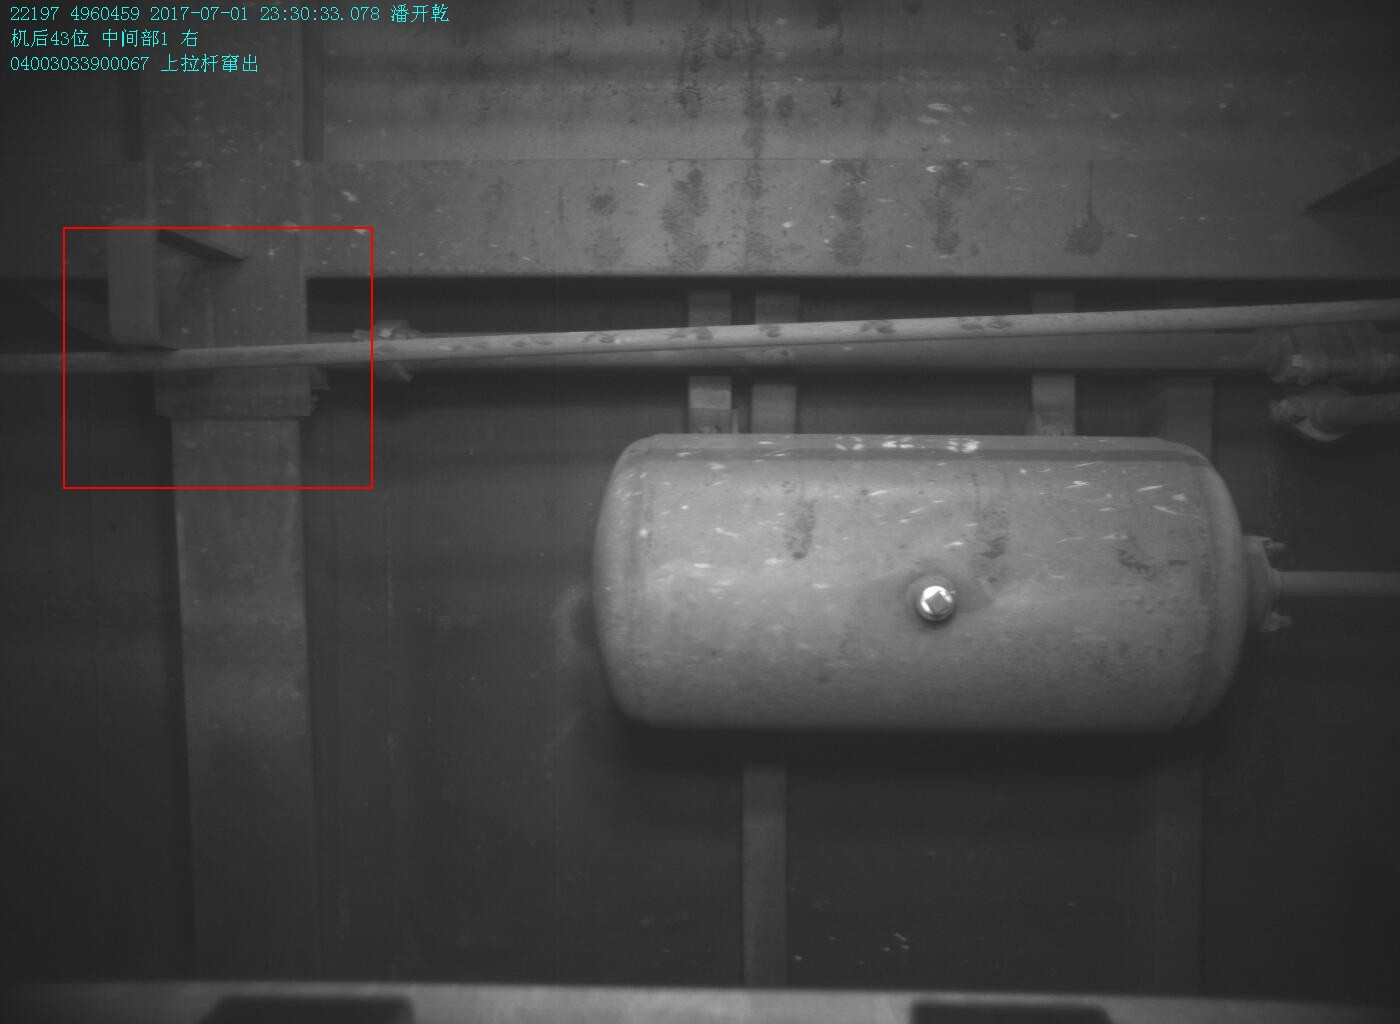upper lever: (108, 214, 243, 371)
